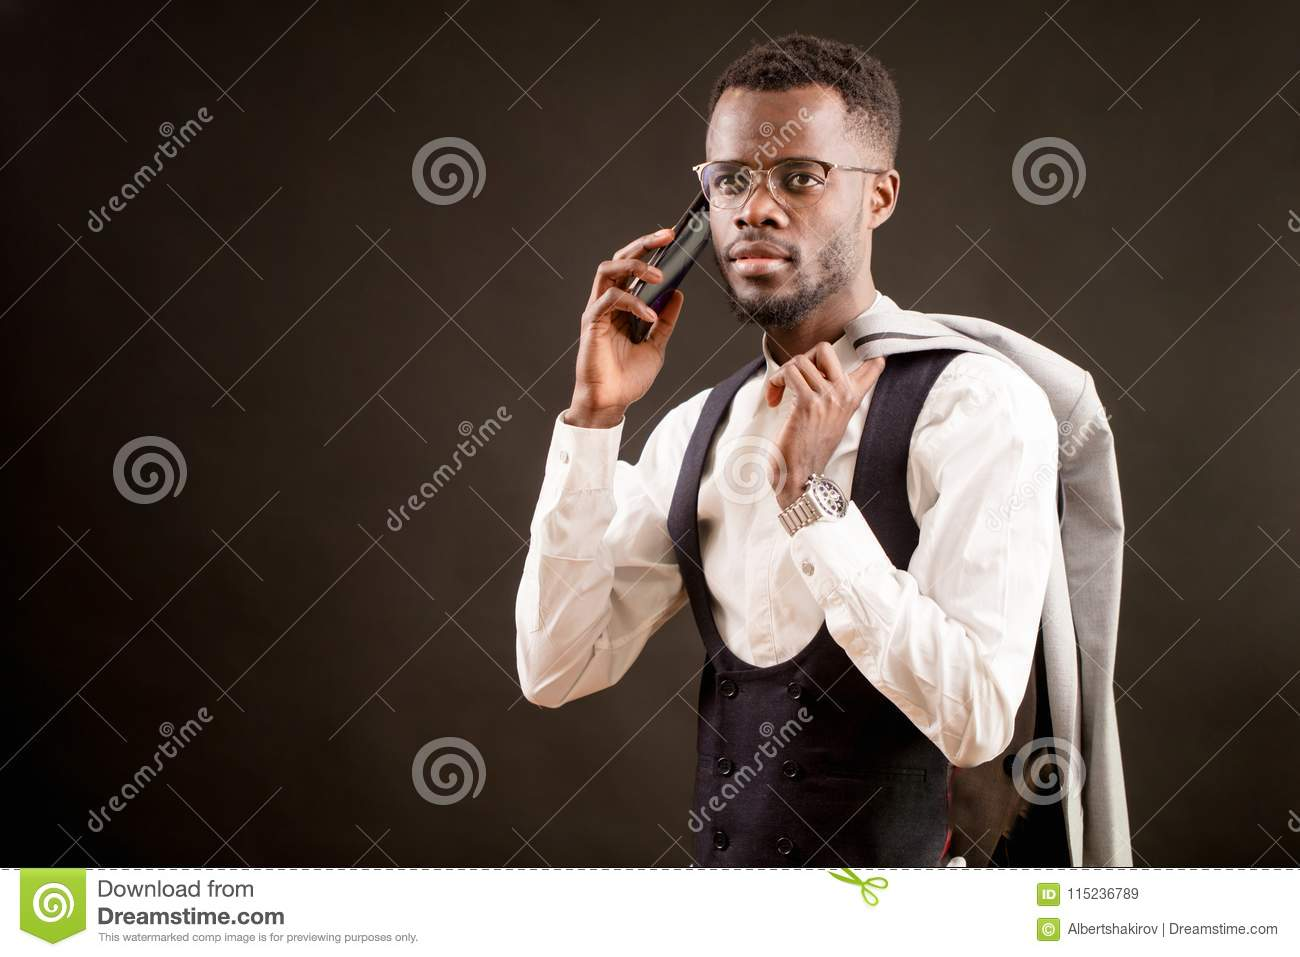phone: (629, 184, 717, 341)
talk: (570, 128, 826, 415)
